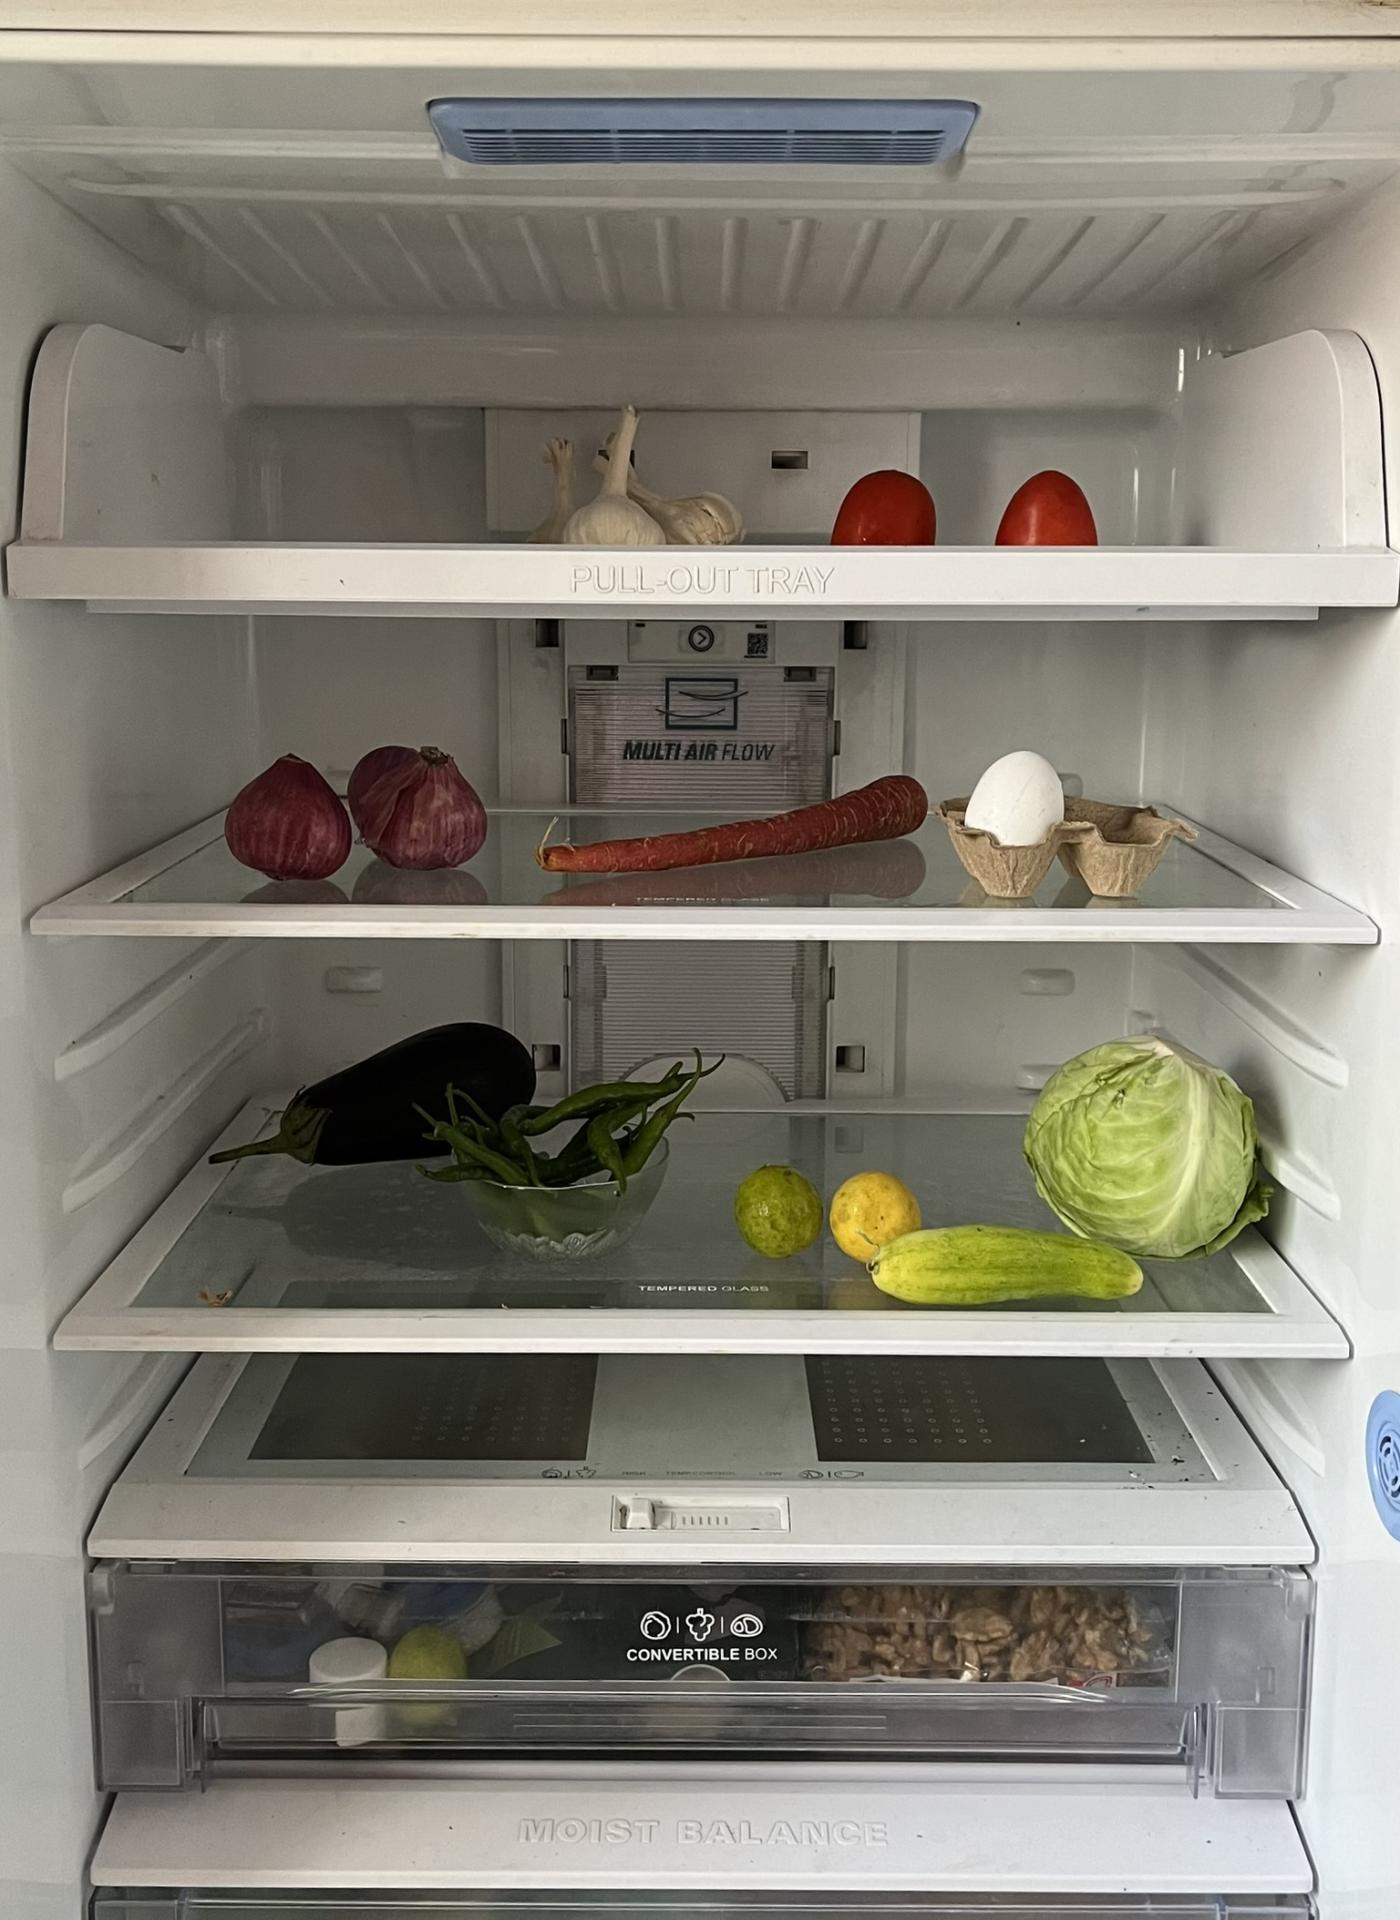brinjal: (219, 1024, 541, 1160)
cabbage: (1023, 1042, 1267, 1260)
carrots: (537, 772, 935, 888)
chillies: (441, 1066, 687, 1237)
cucumber: (839, 1222, 1153, 1306)
egg: (962, 744, 1066, 880)
garlic: (532, 407, 747, 550)
lemon: (737, 1160, 923, 1264)
onion: (225, 745, 485, 882)
tomato: (835, 458, 944, 543), (994, 467, 1097, 549)
